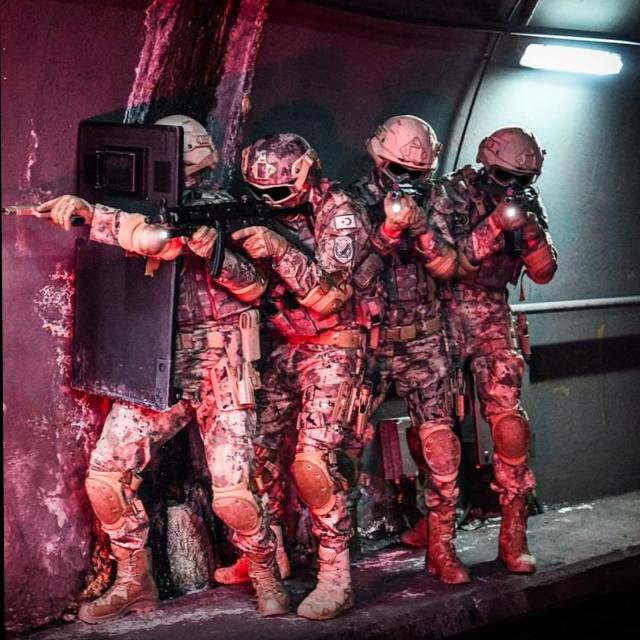poh_personel: (38, 114, 265, 622), (239, 131, 383, 616), (429, 127, 555, 569), (355, 113, 455, 584)
